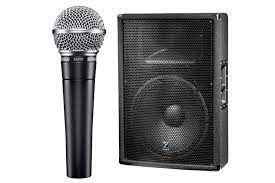microphone: (42, 4, 111, 183)
speaker: (115, 11, 235, 172)
